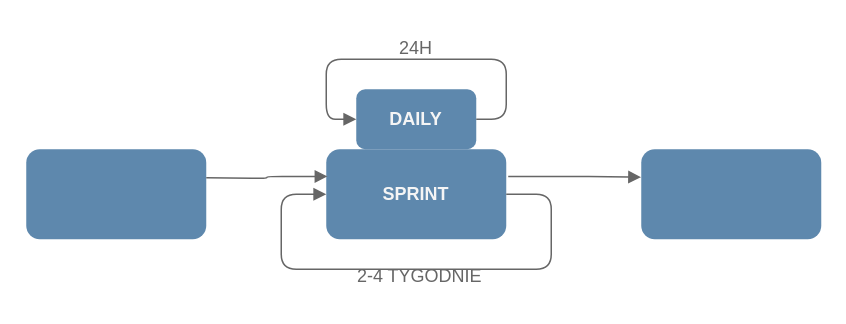
The diagram is 846 pixels wide and 324 high, and some of its shapes have lost their labels. The centre of each missing label's shape, as x and y in pixels:
"DZIAŁAJĄCA FUNKCJONALNOŚĆ" belongs at (x=730, y=193).
"PRODUCT BACKLOG" belongs at (x=116, y=193).
